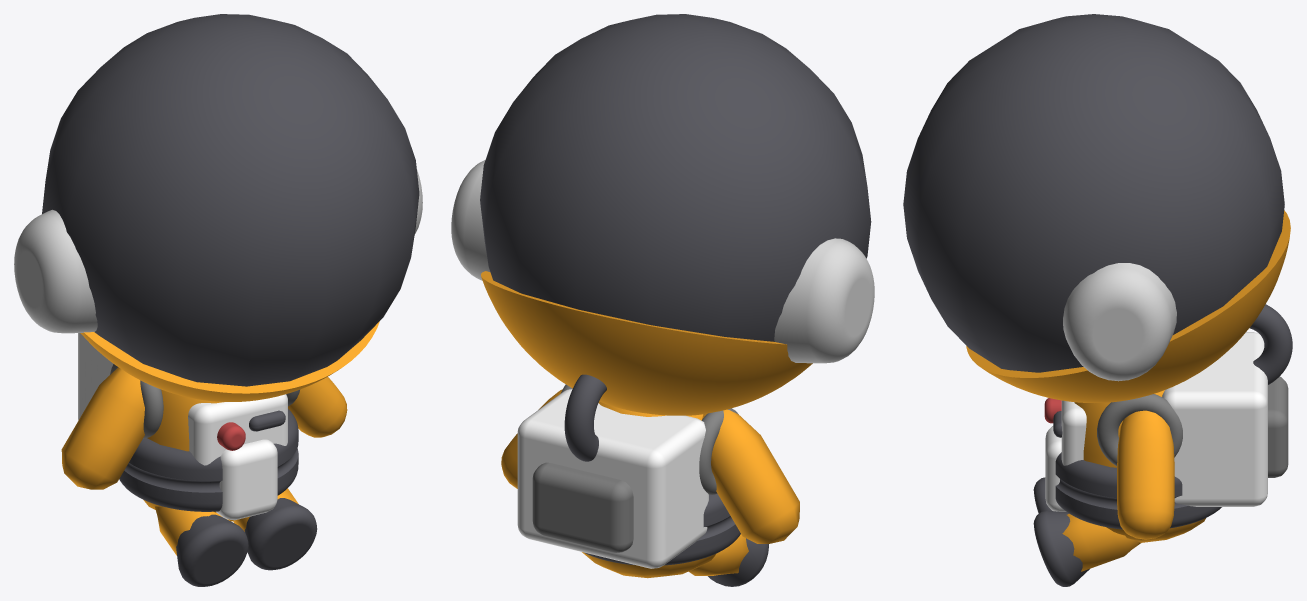
File: aboute-joey-2.gltf
3 renders of one model, left to right at view 1: azimuth 30°, elevation 25°; view 2: azimuth 150°, elevation 25°; view 3: azimuth 270°, elevation 25°, orthographic. The views are drawn at different scales.
Visible parts, largest first — view 1: head-glass, ear-right, arm-right, belt, head-glass-bottom, front-armor-bottom, foot-right, front-armor, foot-left, arm-left, body, backpack-main (+4 smaller); view 2: head-glass, head-glass-bottom, backpack-main, ear-right, arm-right, backpack-mini, ear-left, oxygen-tube, belt, body, backpacke-belt-right, foot-right (+2 smaller); view 3: head-glass, backpack-main, head-glass-bottom, ear-left, arm-left, belt, foot-left, backpacke-belt-left, leg-left, oxygen-tube, backpack-mini, body (+2 smaller).
Boxes of the visible parts, x1,y1,x2,y2 form: head-glass: (42, 14, 419, 386); ear-right: (14, 209, 97, 333); arm-right: (61, 367, 144, 489); belt: (119, 409, 298, 511); head-glass-bottom: (80, 321, 379, 401); front-armor-bottom: (216, 439, 277, 520); foot-right: (176, 514, 248, 586); front-armor: (188, 394, 287, 465); foot-left: (244, 498, 317, 570); arm-left: (288, 376, 347, 437); body: (143, 389, 235, 521); backpack-main: (78, 333, 113, 420); head-glass: (480, 14, 871, 341); head-glass-bottom: (481, 271, 812, 415); backpack-main: (517, 389, 708, 568); ear-right: (774, 238, 874, 363); arm-right: (702, 409, 799, 543); backpack-mini: (532, 462, 633, 552); ear-left: (451, 160, 490, 280); oxygen-tube: (564, 374, 606, 461); belt: (584, 494, 740, 565); body: (582, 401, 715, 578); backpacke-belt-right: (699, 408, 738, 494); foot-right: (708, 538, 768, 586); head-glass: (903, 14, 1284, 372); backpack-main: (1162, 332, 1267, 506); head-glass-bottom: (966, 210, 1290, 402); ear-left: (1063, 263, 1176, 381); arm-left: (1117, 410, 1174, 539); belt: (1055, 452, 1221, 529); foot-left: (1033, 510, 1089, 586); backpacke-belt-left: (1097, 394, 1182, 466); leg-left: (1062, 513, 1140, 571); oxygen-tube: (1249, 304, 1292, 384); backpack-mini: (1268, 376, 1288, 477); body: (1074, 390, 1205, 542).
Bounding box in the file's own units: 0.6148 × 0.8339 × 0.549.
